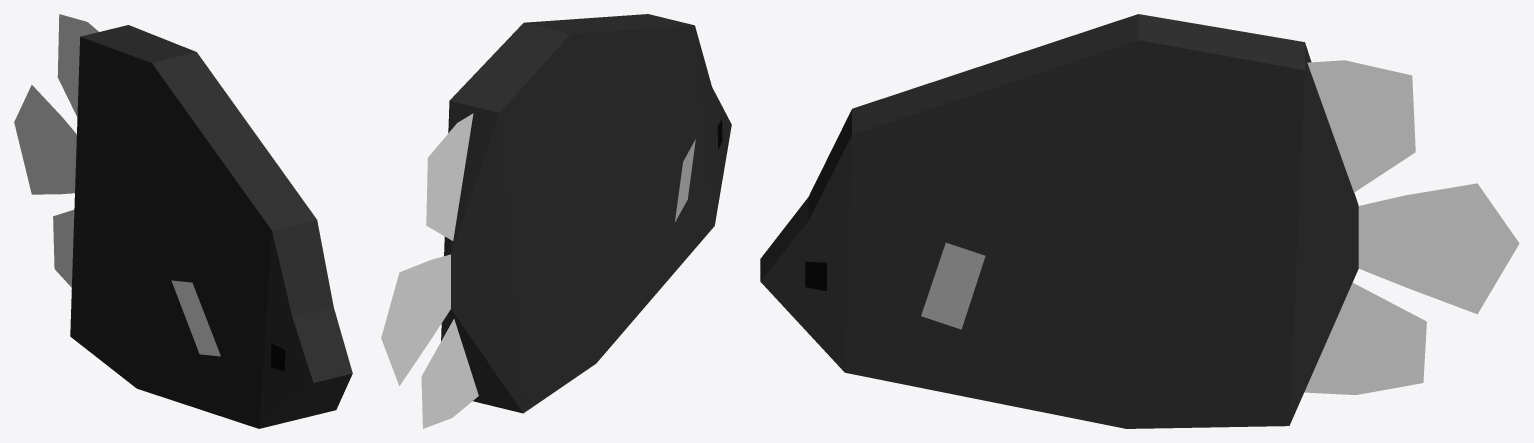
File: 20fish.fbx
3 views of the same model, side by side, from view 1: azimuth 30°, elevation 25°; view 2: azimuth 150°, elevation 25°; view 3: azimuth 270°, elevation 25° (orthographic). The views are drawn at different scales.
Visible parts, largest first — view 1: Tropical Fish 20; view 2: Tropical Fish 20; view 3: Tropical Fish 20.
Part boxes in pixels (x1=…): Tropical Fish 20: x1=14, y1=14, x2=352, y2=428; Tropical Fish 20: x1=381, y1=14, x2=731, y2=428; Tropical Fish 20: x1=760, y1=14, x2=1519, y2=428.
Size of the model in its own units: 55.38 by 125 by 228.
